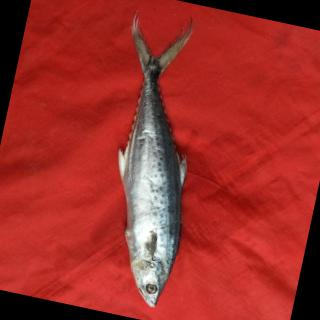Ikan: (65, 9, 240, 316)
